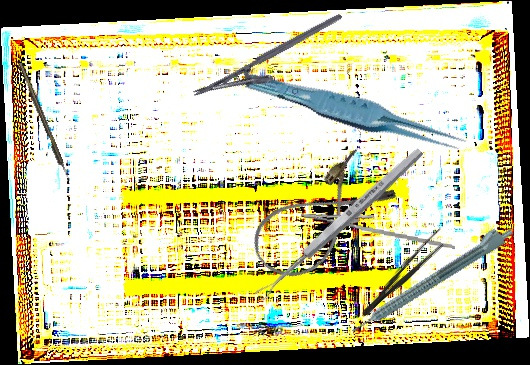Cannula: (241, 144, 401, 293)
Dressing Forceps: (356, 225, 451, 323)
Handpiece: (344, 218, 516, 338)
Hook Surgical: (17, 61, 71, 182)
Needle Holder: (191, 12, 354, 117), (298, 201, 459, 250)
Surgical Spoon: (253, 145, 426, 303)
Tissue Forceps: (244, 56, 468, 171)
